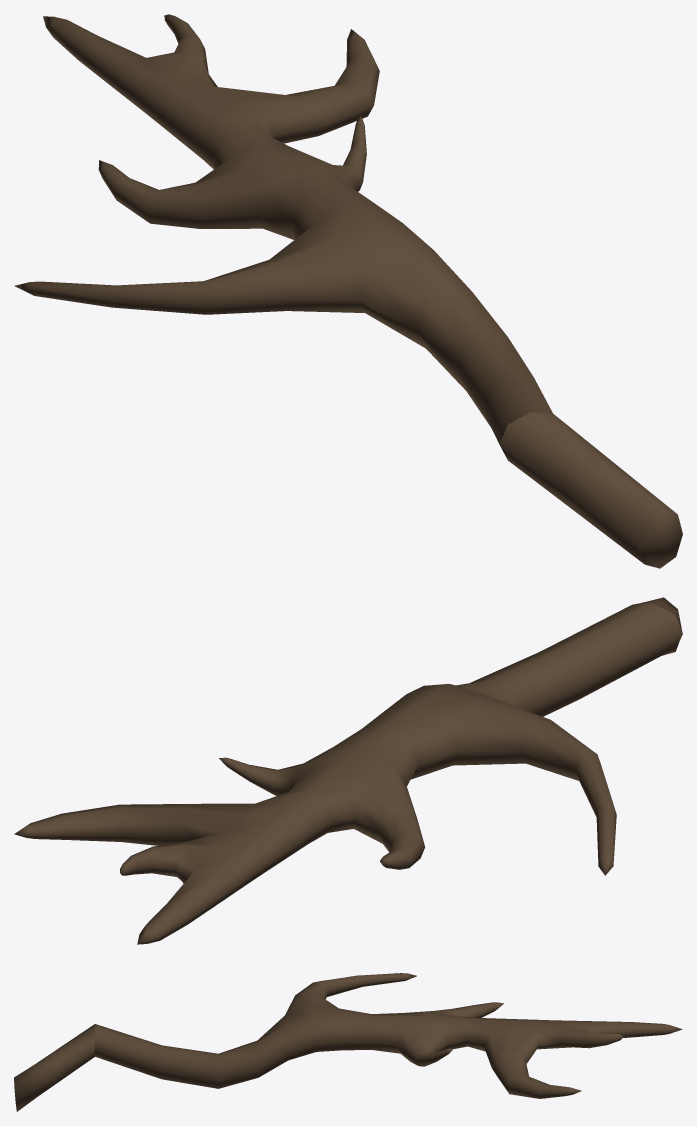
The model's file is Tree_Branches_3.fbx.
3 views of the same model, one above another, from view 1: azimuth 30°, elevation 25°; view 2: azimuth 150°, elevation 25°; view 3: azimuth 270°, elevation 25° (orthographic). The views are drawn at different scales.
Parts seen in each view (by area): view 1: Tree_Branch_3; view 2: Tree_Branch_3; view 3: Tree_Branch_3.
Boxes of the visible parts, x1,y1,x2,y2 form: Tree_Branch_3: (14,14,682,568); Tree_Branch_3: (14,597,682,944); Tree_Branch_3: (14,973,682,1111).
Size of the model in its own units: 49.25 by 15.51 by 104.
